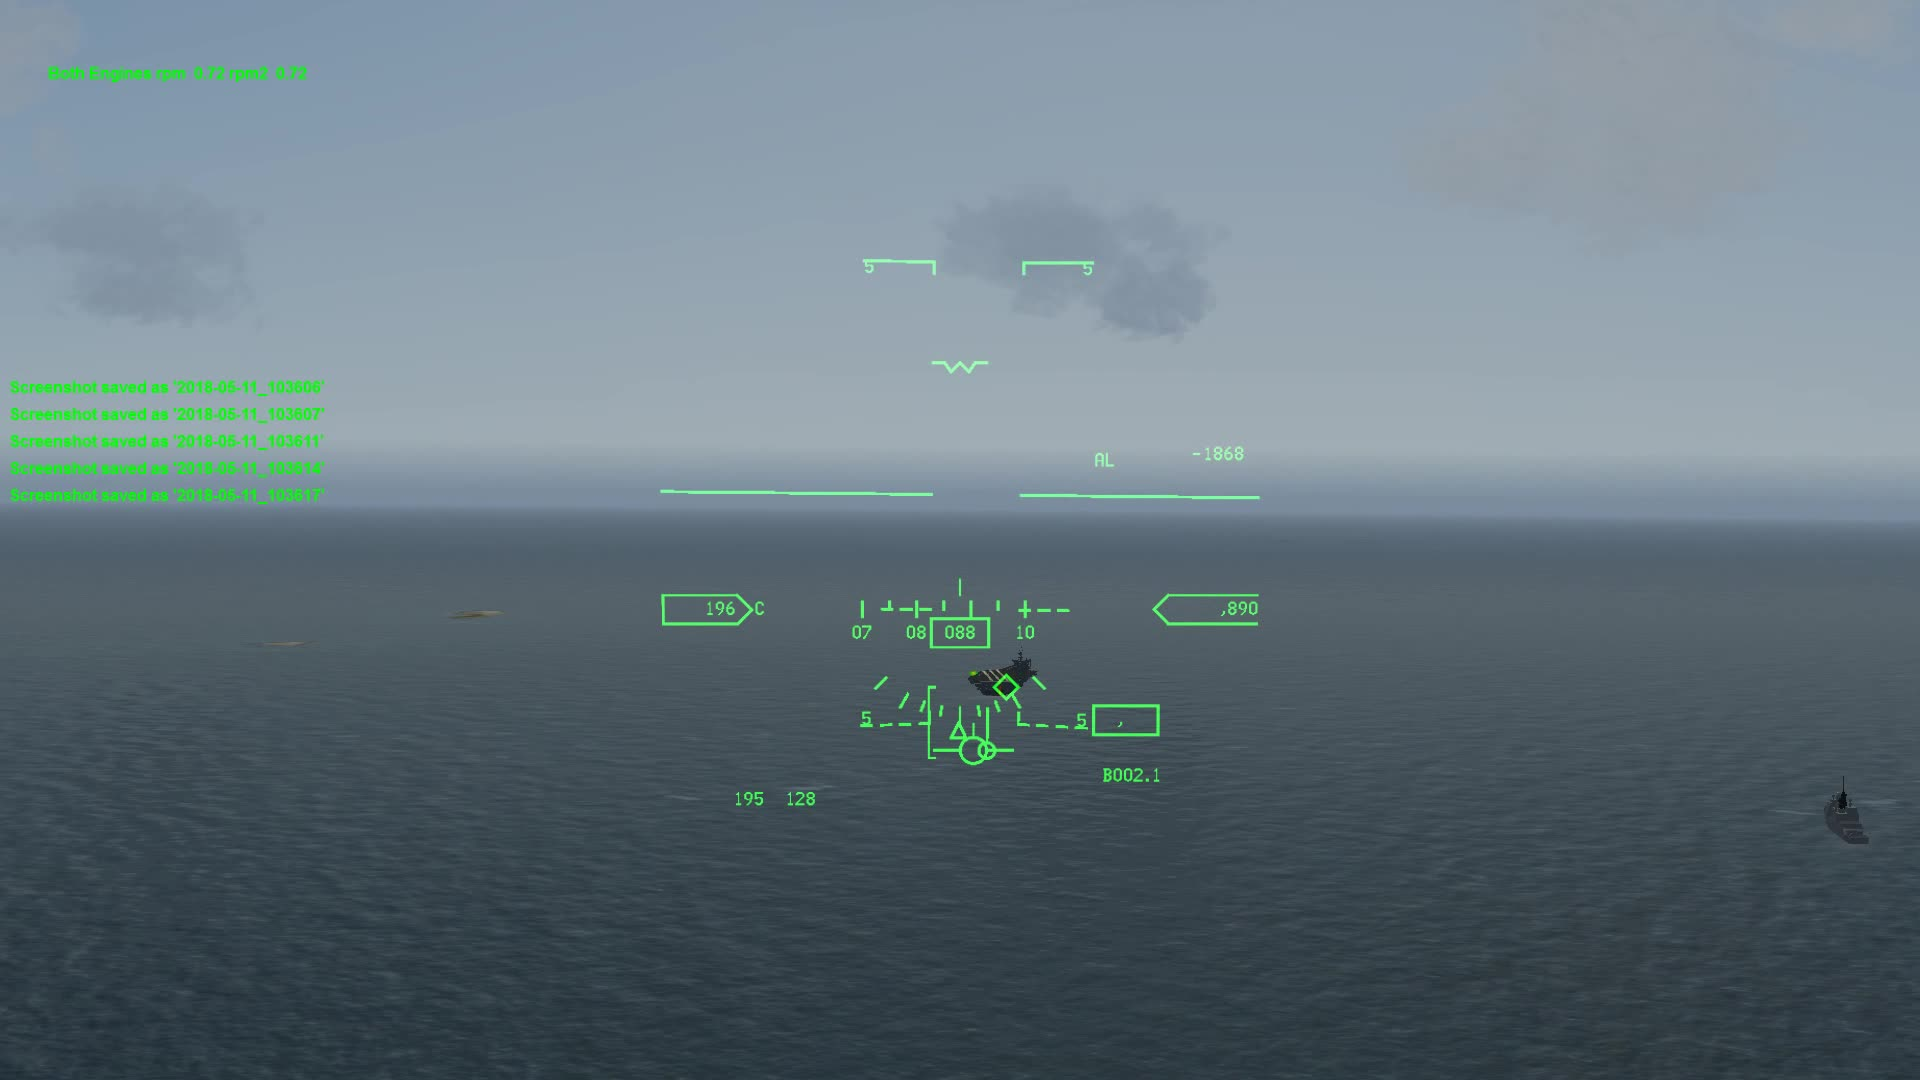speed vector: (945, 723, 1002, 782)
